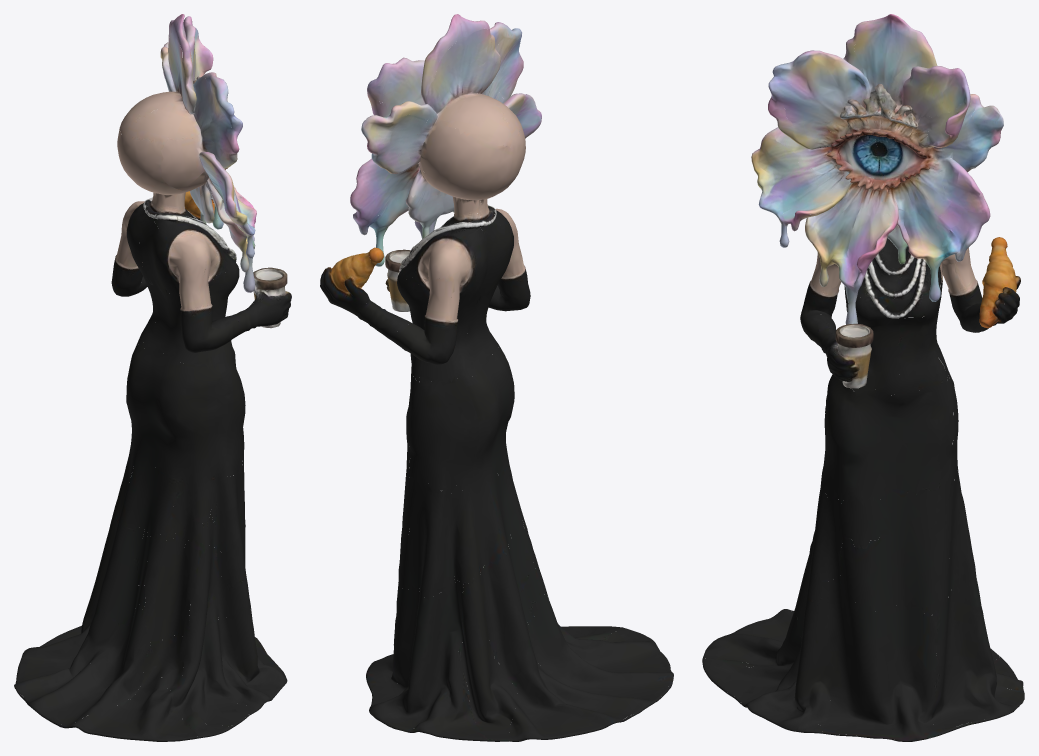
File: gown.glb
3 views of the same model, side by side, from view 1: azimuth 30°, elevation 25°; view 2: azimuth 150°, elevation 25°; view 3: azimuth 270°, elevation 25° (orthographic). The views are drawn at different scales.
Visible parts, largest first — view 1: tripo_node_620514dc-a435-4403-84fe-d3314a613aa5; view 2: tripo_node_620514dc-a435-4403-84fe-d3314a613aa5; view 3: tripo_node_620514dc-a435-4403-84fe-d3314a613aa5.
Boxes of the visible parts, x1=… form: tripo_node_620514dc-a435-4403-84fe-d3314a613aa5: x1=14, y1=14, x2=291, y2=741; tripo_node_620514dc-a435-4403-84fe-d3314a613aa5: x1=320, y1=14, x2=673, y2=741; tripo_node_620514dc-a435-4403-84fe-d3314a613aa5: x1=702, y1=14, x2=1024, y2=741.
Size of the model in its own units: 0.4142 by 1 by 0.4238.
1 material, 1 textured.
